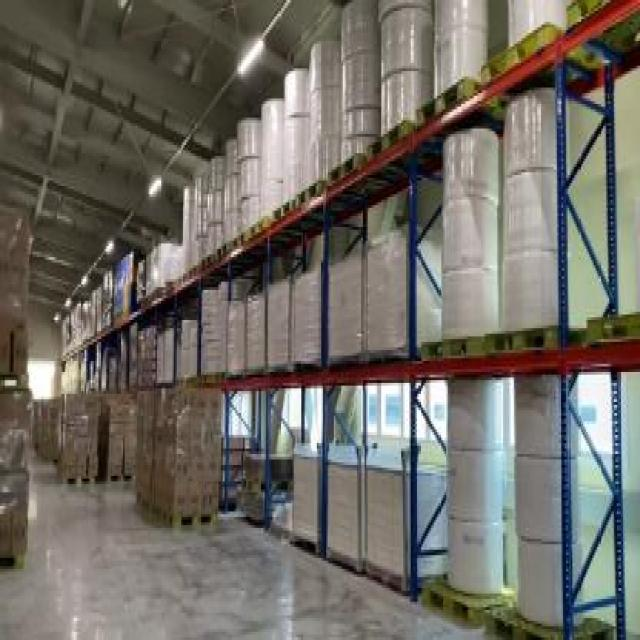box: (132, 386, 226, 528), (1, 208, 34, 572), (29, 391, 102, 481), (52, 254, 137, 323), (234, 454, 295, 533), (69, 328, 123, 397), (103, 391, 142, 484), (118, 320, 156, 391)
white_roll: (285, 443, 449, 602), (504, 372, 596, 634), (228, 249, 414, 377), (495, 90, 580, 342), (437, 364, 512, 632), (440, 120, 497, 353), (338, 3, 382, 158), (380, 0, 432, 126), (306, 41, 343, 191), (431, 3, 489, 98), (178, 159, 222, 268), (499, 2, 566, 66), (194, 282, 231, 377), (156, 314, 202, 386), (283, 66, 306, 202), (260, 96, 286, 210), (238, 120, 264, 232), (137, 238, 183, 287), (223, 131, 240, 235)
